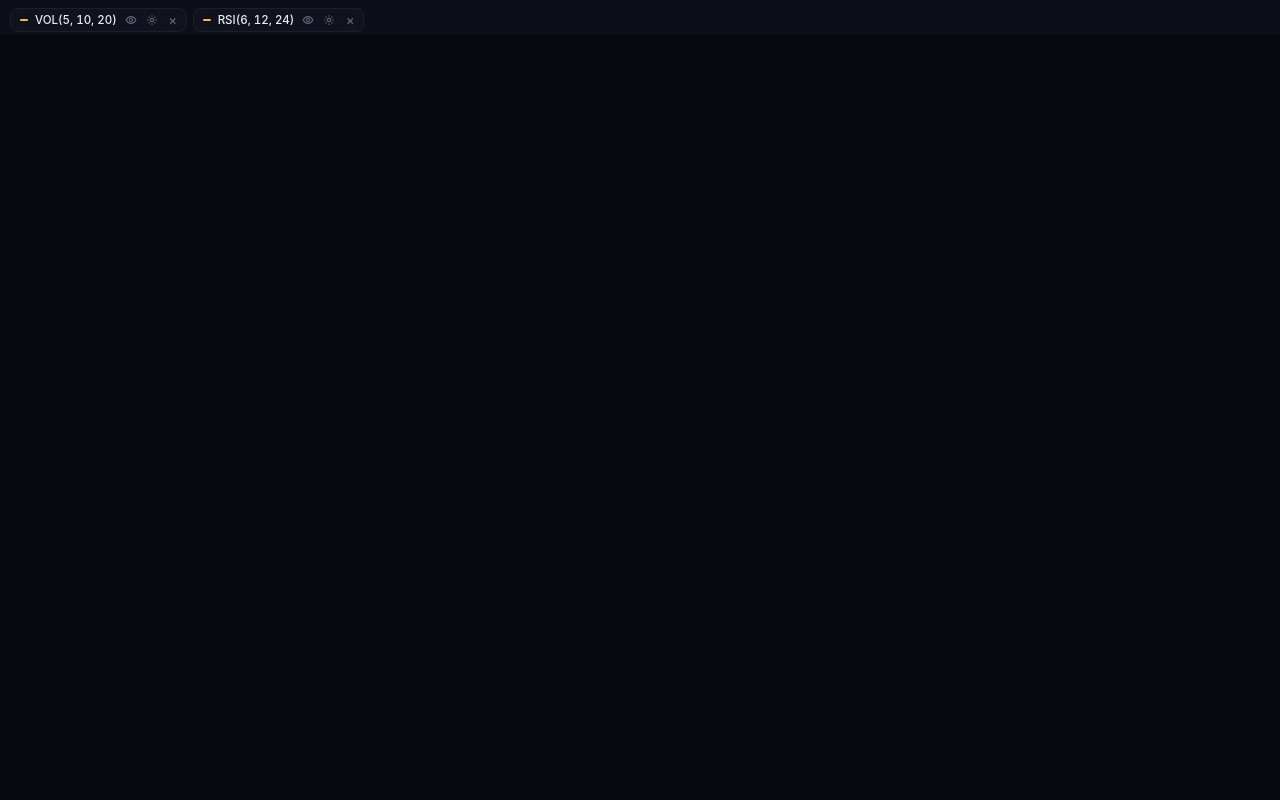
Test: IndicatorChips › gear opens settings; save updates that indicator
The image size is (1280, 800).
Click the button named "Settings for RSI(6, 12, 24)": (329, 20) [319,10,339,30]
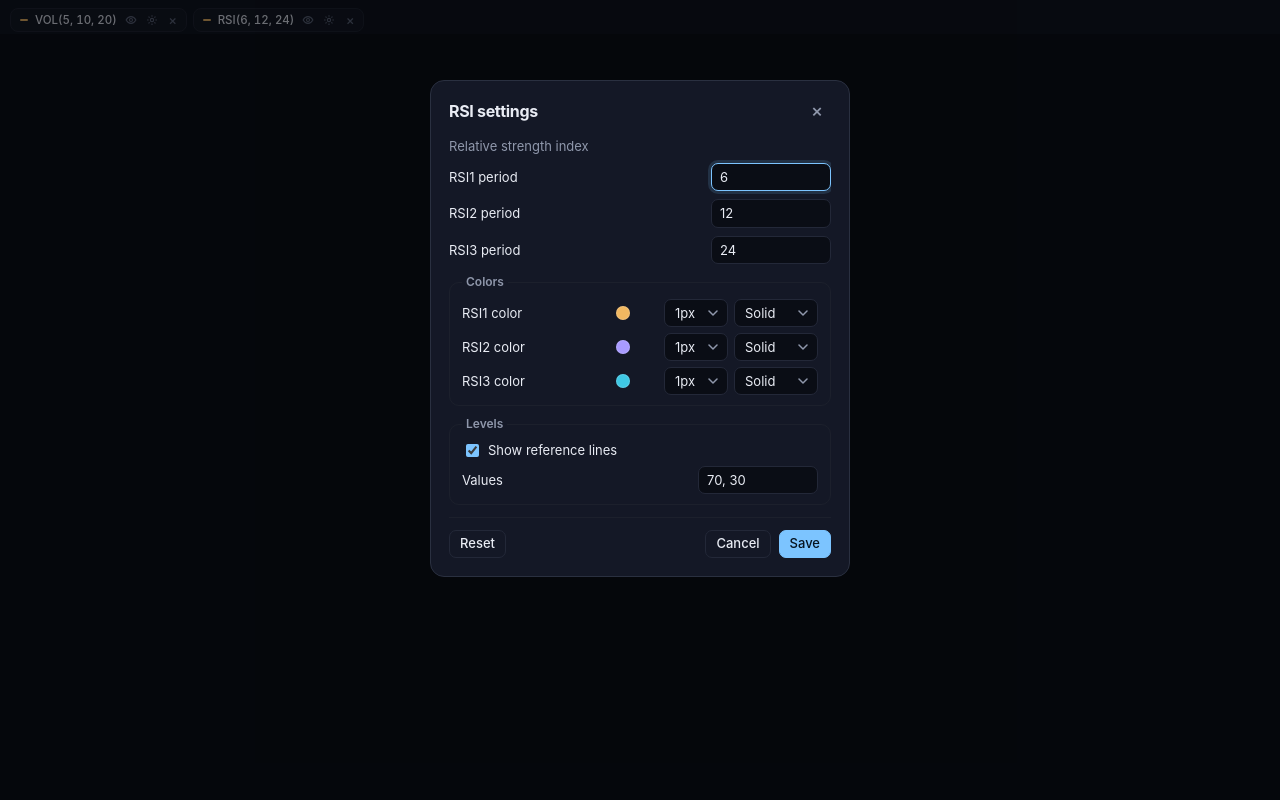
Replace the text in the field labelled "RSI1 period" with "14": (771, 177) [711,163,831,191]
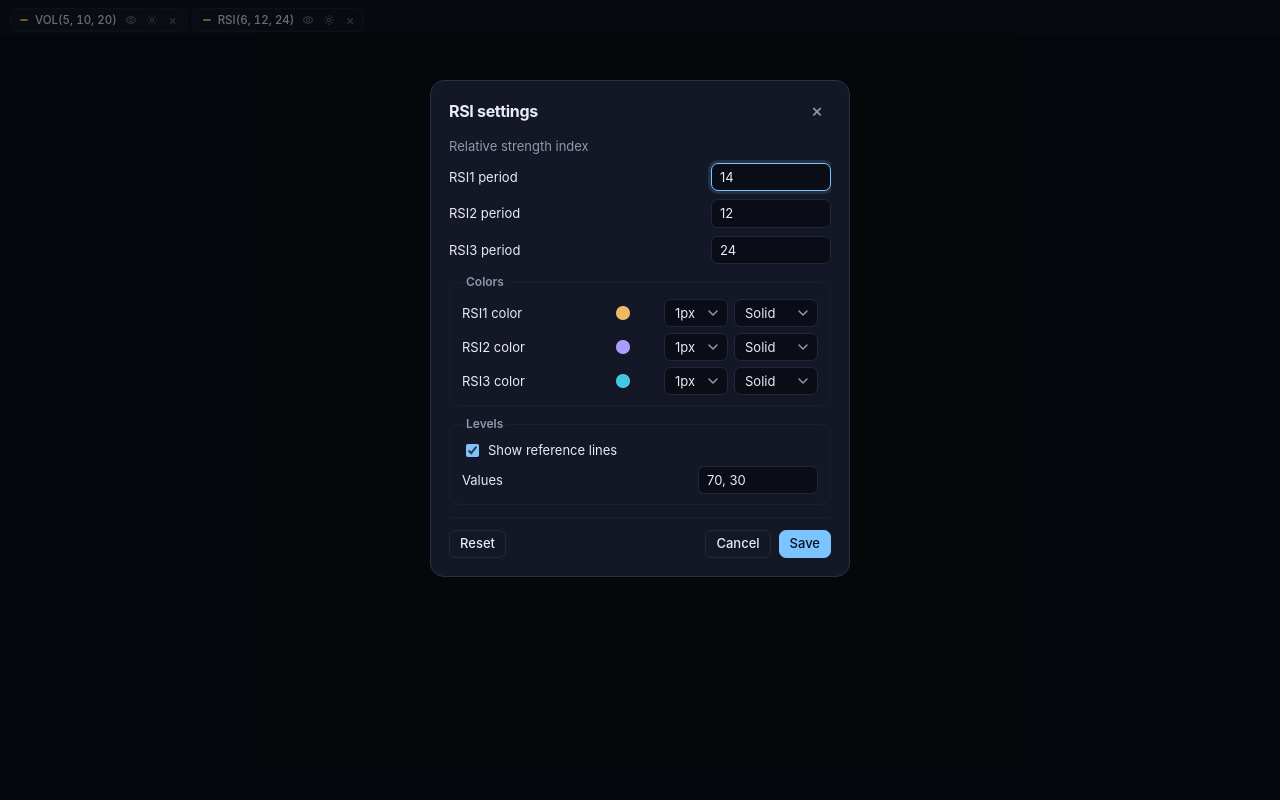
Click the button "Save": (805, 544) [779,530,831,558]
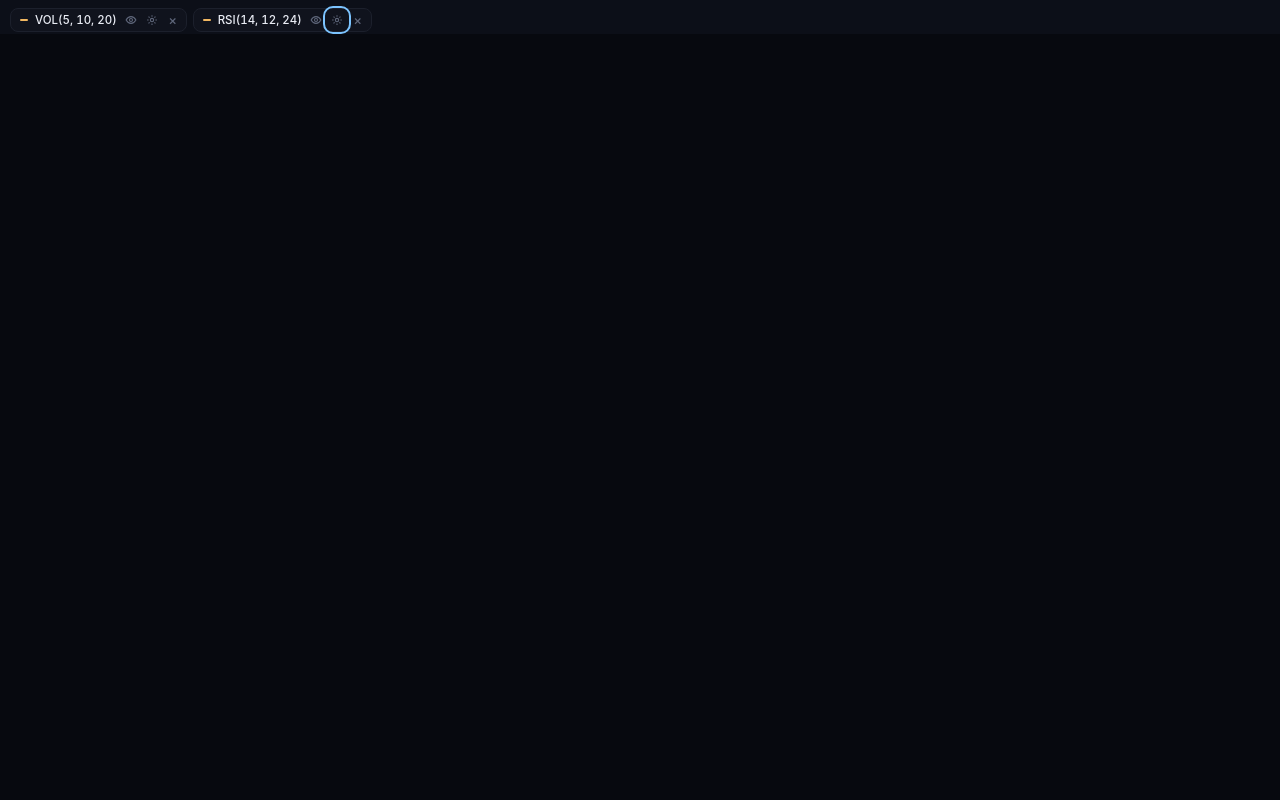
Now the dialog is gone
